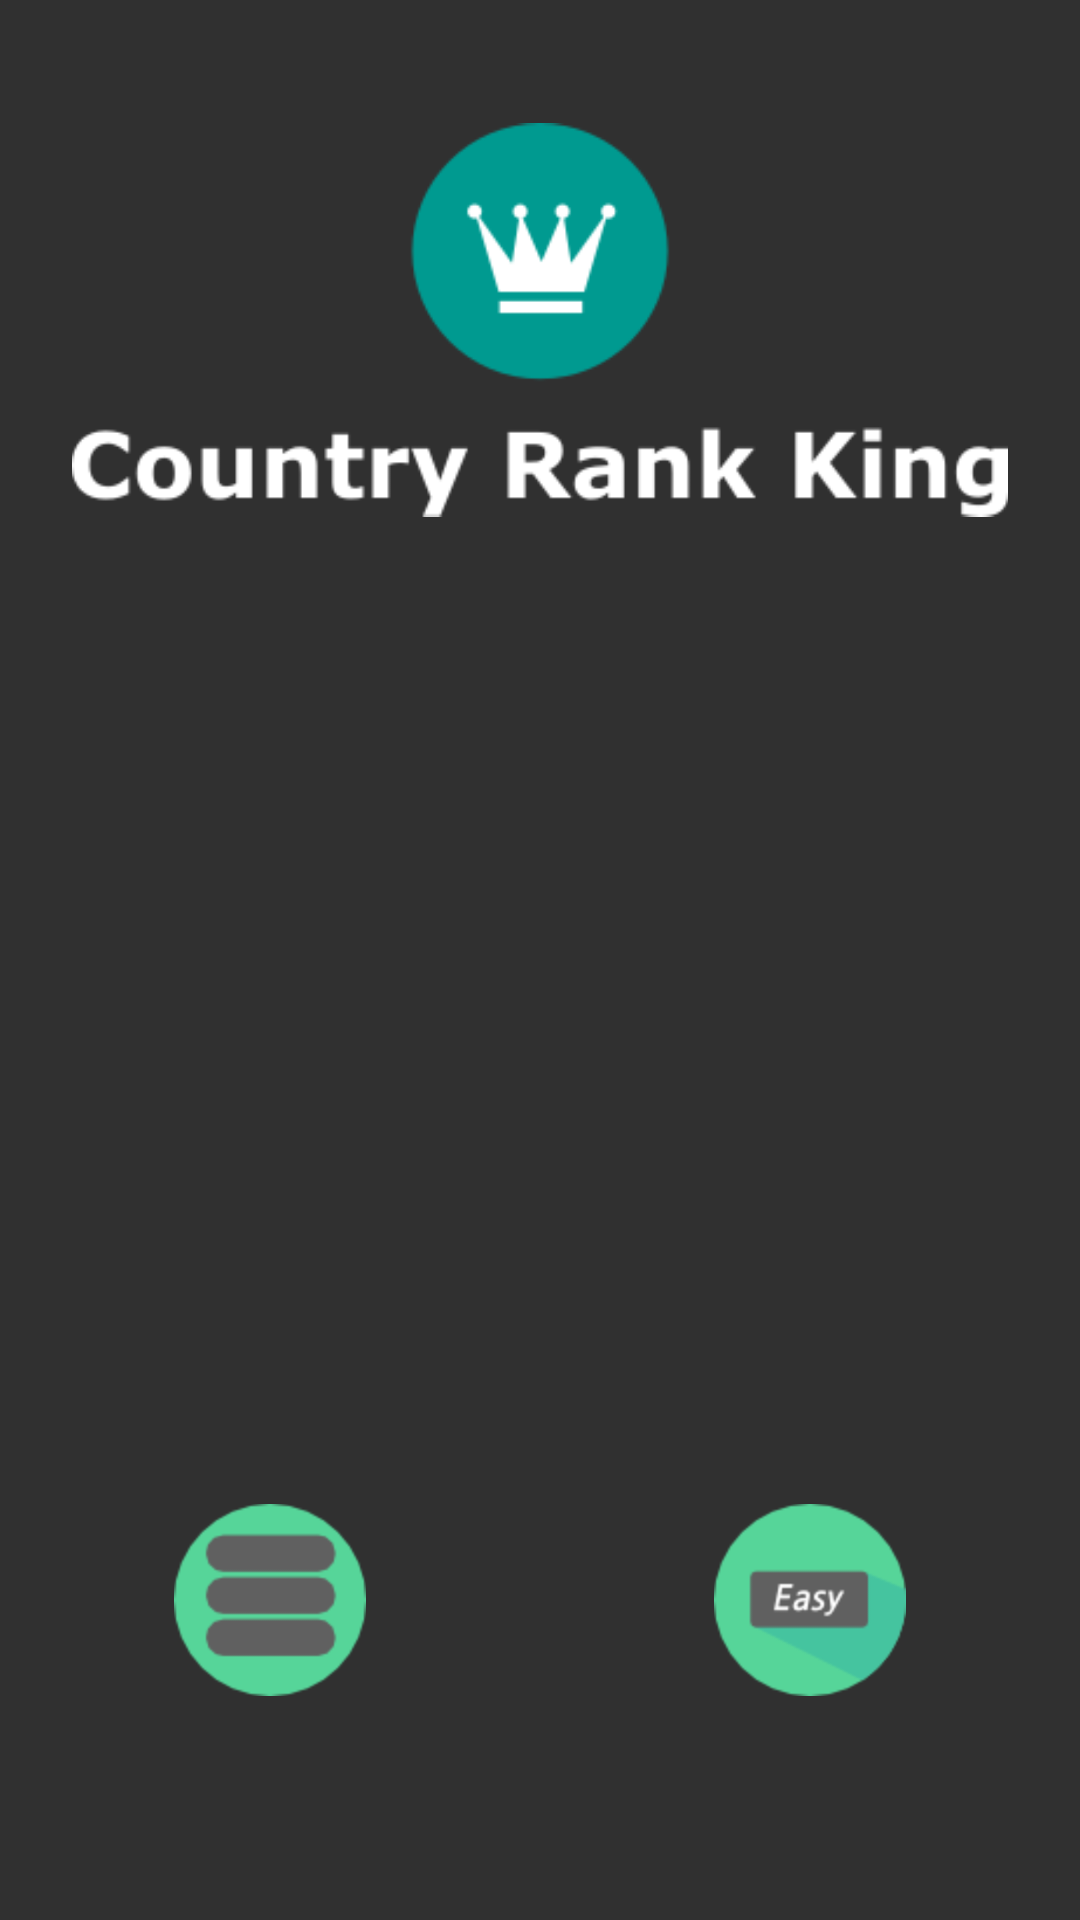

Icon click points for this 1080 × 1920 phone screenshot, format (x=x, y=y):
Select difficulty: (x=810, y=1600)
Select number of lines: (x=270, y=1600)
